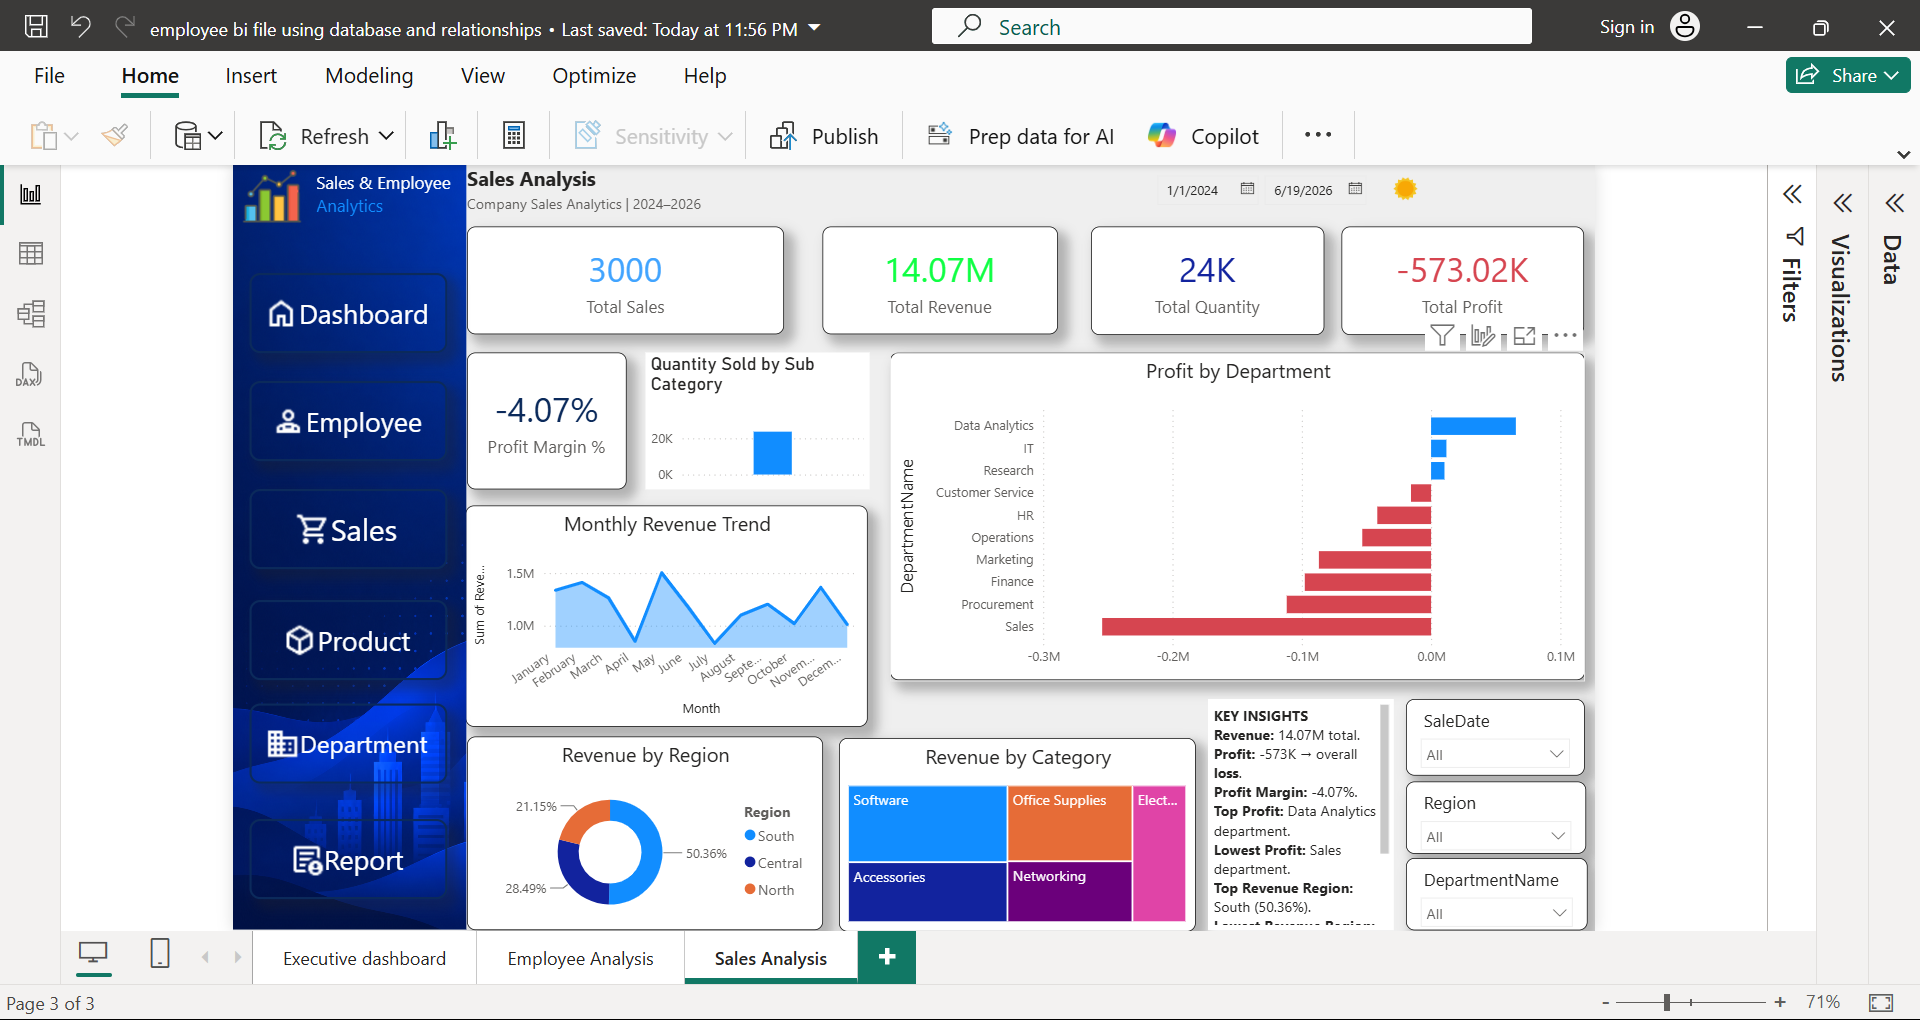

The dashboard page shown, as its layout file describes it:
{"tool":"powerbi","page":{"name":"Sales Analysis","canvas":[1280,720],"ordinal":2},"visuals":[{"type":"card","fields":{"Values":["CountNonNull(company_powerbi sales.SaleID)"]},"box":[220,57.8,149.5,101.5],"z":0},{"type":"card","fields":{"Values":["Sum(company_powerbi sales.Revenue)"]},"box":[554.2,57.5,221.1,101.5],"z":1000},{"type":"card","fields":{"Values":["company_powerbi customers.Profit Margin %"]},"box":[387.7,57.8,149.5,101.5],"z":2000},{"type":"card","fields":{"Values":["Sum(company_powerbi sales.Quantity)"]},"box":[806.4,57.3,219.2,101.7],"z":3000},{"type":"card","fields":{"Values":["Sum(company_powerbi sales.Profit)"]},"box":[1041.3,57.3,227.8,101.7],"z":4000},{"type":"clusteredBarChart","title":"Profit by Department","fields":{"Category":["company_powerbi departments.DepartmentName"],"Y":["Sum(company_powerbi sales.Profit)"]},"box":[616.9,176.7,653.5,307.7],"z":5000},{"type":"lineChart","title":"Monthly Revenue Trend","fields":{"Y":["Sum(company_powerbi sales.Revenue)"],"Category":["company_powerbi employees.HireDate.Variation.Date Hierarchy.Month"]},"box":[219.2,319.4,378.2,207.7],"z":6000},{"type":"donutChart","title":"Revenue by Region","fields":{"Category":["company_powerbi employees.Region"],"Y":["Sum(company_powerbi sales.Revenue)"]},"box":[219.6,537.5,334.6,181.7],"z":7000},{"type":"treemap","title":"Revenue by Category","fields":{"Group":["company_powerbi products.Category"],"Values":["Sum(company_powerbi sales.Revenue)"]},"box":[569.6,538.6,335.6,181.9],"z":8000},{"type":"slicer","fields":{"Values":["company_powerbi sales.SaleDate"]},"box":[1102.6,501.9,167.8,71.9],"z":9000},{"type":"slicer","fields":{"Values":["company_powerbi customers.Region"]},"box":[1102.6,579.5,169.2,67.7],"z":10000},{"type":"slicer","fields":{"Values":["company_powerbi departments.DepartmentName"]},"box":[1102.6,651.4,170.6,67.7],"z":11000},{"type":"image","box":[0,0,219.5,719],"z":12000},{"type":"shape","title":"Sales Analysis","box":[219.6,0,1059.9,57.5],"z":13000},{"type":"slicer","fields":{"Values":["company_powerbi sales.SaleDate"]},"box":[855.5,0,299.8,42.4],"z":14000},{"type":"image","box":[1081.6,11.1,41.4,22.3],"z":15000},{"type":"image","box":[0,0,73.2,58.9],"z":16000},{"type":"textbox","box":[73.2,0,146.3,58.9],"z":17000},{"type":"actionButton","box":[15.6,101.6,186,75],"z":18000},{"type":"actionButton","box":[15.6,203.2,186,75],"z":19000},{"type":"actionButton","box":[15.6,304.8,186,75],"z":20000},{"type":"actionButton","box":[15.6,409.5,186,75],"z":21000},{"type":"actionButton","box":[15.6,506.4,186,75],"z":22000},{"type":"actionButton","box":[15.6,614.3,186,75],"z":23000},{"type":"textbox","box":[916.5,501.9,174.8,217.1],"z":24000},{"type":"columnChart","title":"Quantity Sold by Sub Category","fields":{"Category":["company_powerbi products.SubCategory"],"Y":["Sum(company_powerbi sales.Quantity)"]},"box":[220,176.2,377.9,128.3],"z":25000}]}

Visuals, with their boxes on the page's 1280x720 design canvas (x1, y1, x2, y2). These are canvas units, not pixel positions in the 1920x1020 screenshot, which may show the page scaled, cropped or inside an application window:
card - CountNonNull(company_powerbi sales.SaleID): bbox=(220, 58, 370, 159)
card - Sum(company_powerbi sales.Revenue): bbox=(554, 58, 775, 159)
card - company_powerbi customers.Profit Margin %: bbox=(388, 58, 537, 159)
card - Sum(company_powerbi sales.Quantity): bbox=(806, 57, 1026, 159)
card - Sum(company_powerbi sales.Profit): bbox=(1041, 57, 1269, 159)
"Profit by Department" clusteredBarChart: bbox=(617, 177, 1270, 484)
"Monthly Revenue Trend" lineChart: bbox=(219, 319, 597, 527)
"Revenue by Region" donutChart: bbox=(220, 538, 554, 719)
"Revenue by Category" treemap: bbox=(570, 539, 905, 720)
slicer - company_powerbi sales.SaleDate: bbox=(1103, 502, 1270, 574)
slicer - company_powerbi customers.Region: bbox=(1103, 580, 1272, 647)
slicer - company_powerbi departments.DepartmentName: bbox=(1103, 651, 1273, 719)
image: bbox=(0, 0, 220, 719)
"Sales Analysis" shape: bbox=(220, 0, 1280, 58)
slicer - company_powerbi sales.SaleDate: bbox=(856, 0, 1155, 42)
image: bbox=(1082, 11, 1123, 33)
image: bbox=(0, 0, 73, 59)
textbox: bbox=(73, 0, 220, 59)
actionButton: bbox=(16, 102, 202, 177)
actionButton: bbox=(16, 203, 202, 278)
actionButton: bbox=(16, 305, 202, 380)
actionButton: bbox=(16, 410, 202, 484)
actionButton: bbox=(16, 506, 202, 581)
actionButton: bbox=(16, 614, 202, 689)
textbox: bbox=(916, 502, 1091, 719)
"Quantity Sold by Sub Category" columnChart: bbox=(220, 176, 598, 304)
